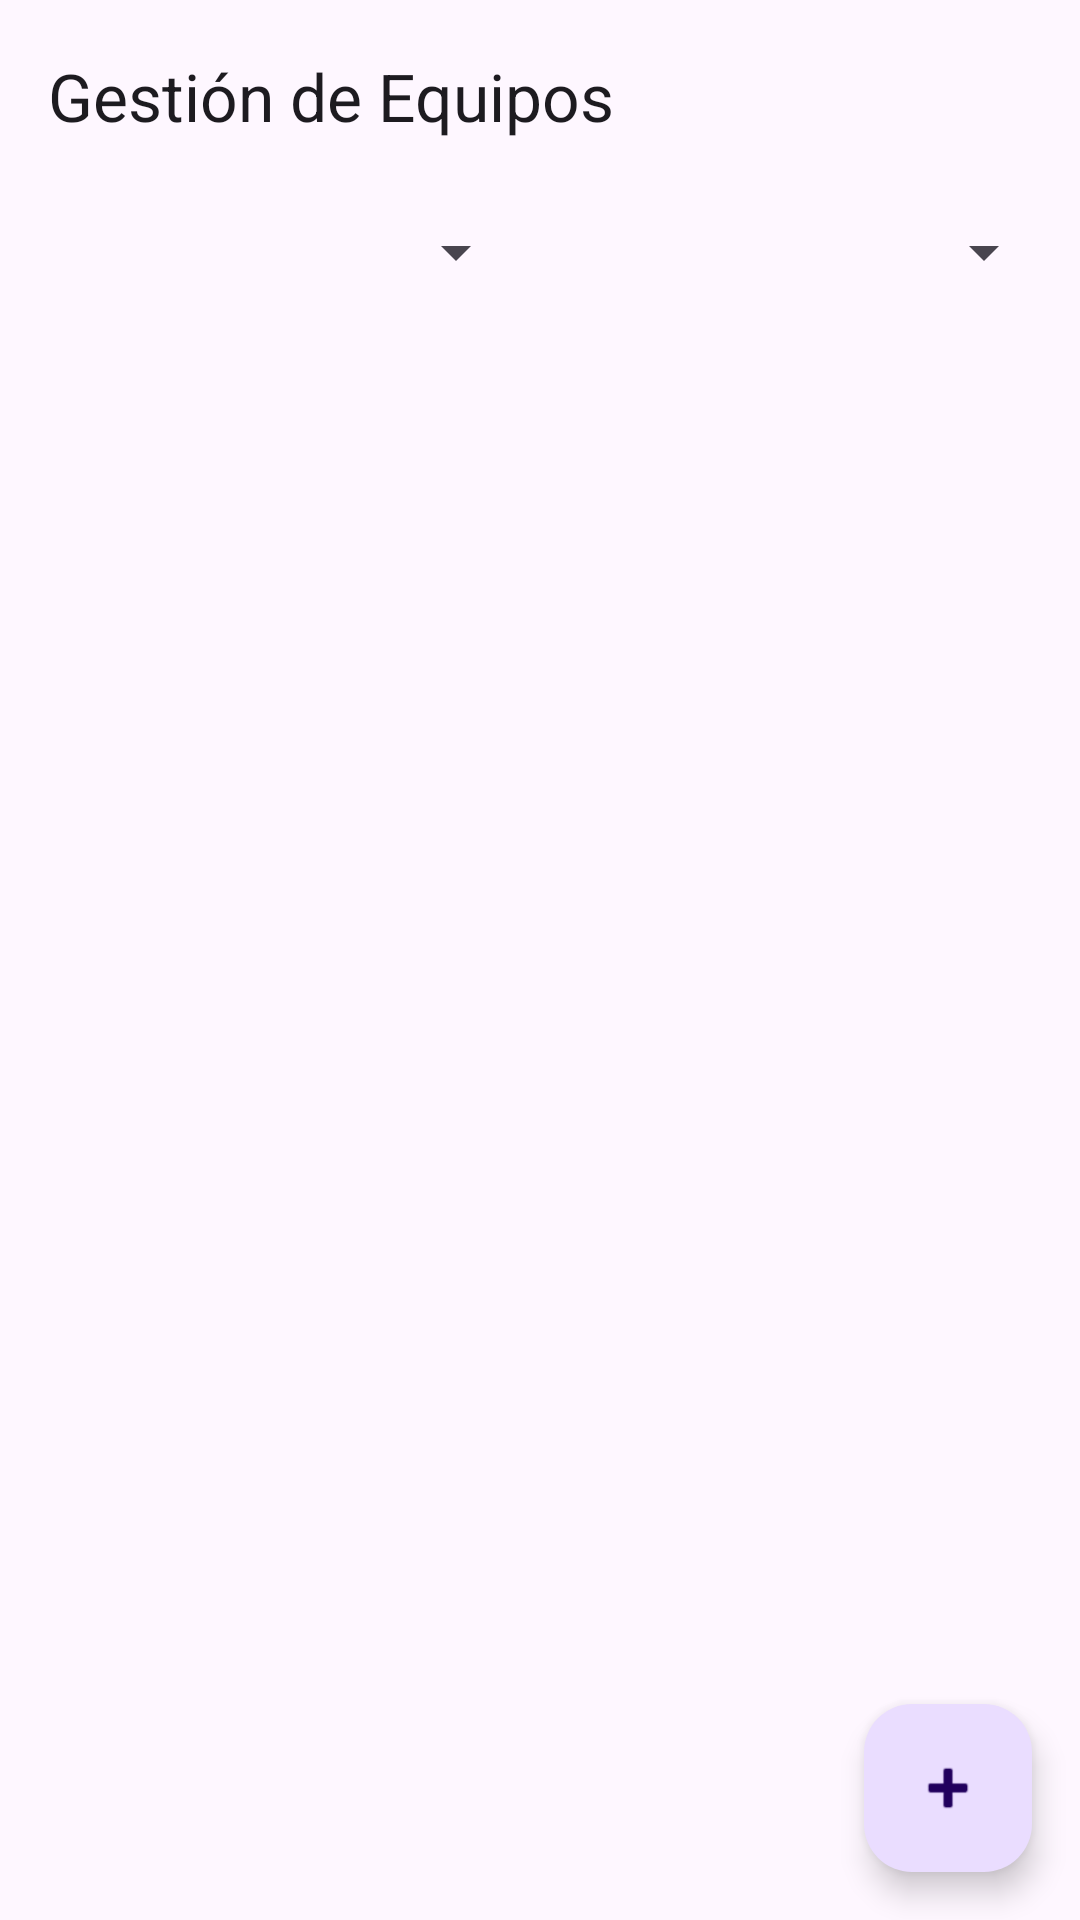

Named icons in this screenshot (1080*1920) and their centers, [x,y]:
Agregar equipo: [948,1788]
